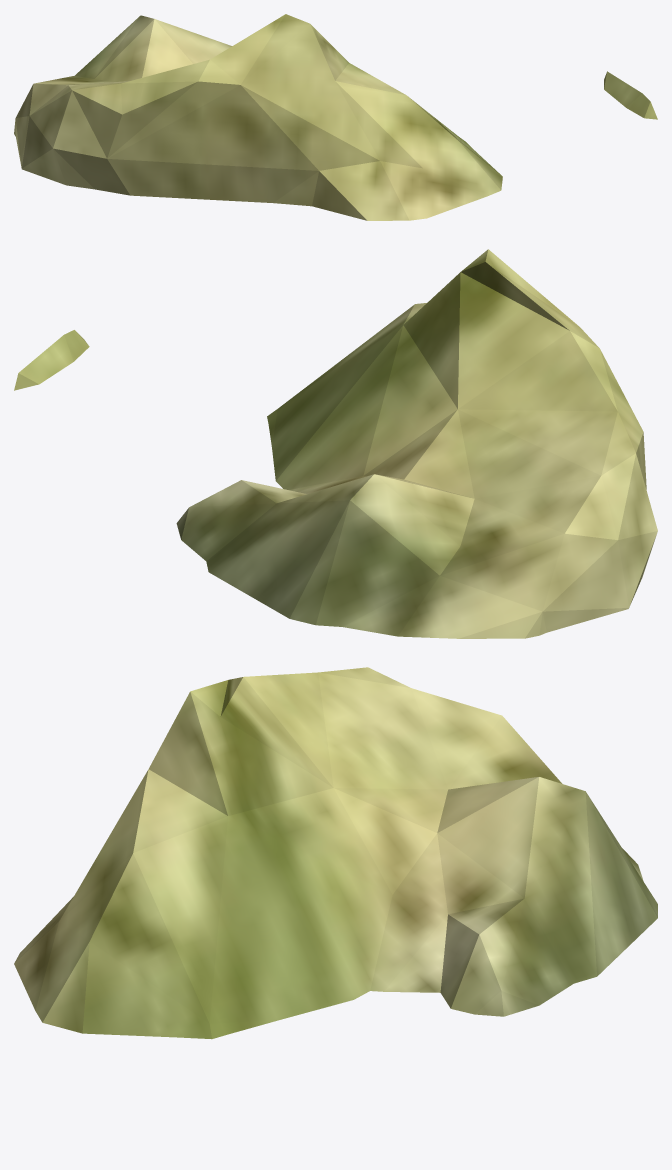
3 views of the same model, one above another, from view 1: azimuth 30°, elevation 25°; view 2: azimuth 150°, elevation 25°; view 3: azimuth 270°, elevation 25° (orthographic). The views are drawn at different scales.
Bounding box in the file's own units: 1.86 × 0.5569 × 1.37.
Materials: 1 (1 with a texture image).
